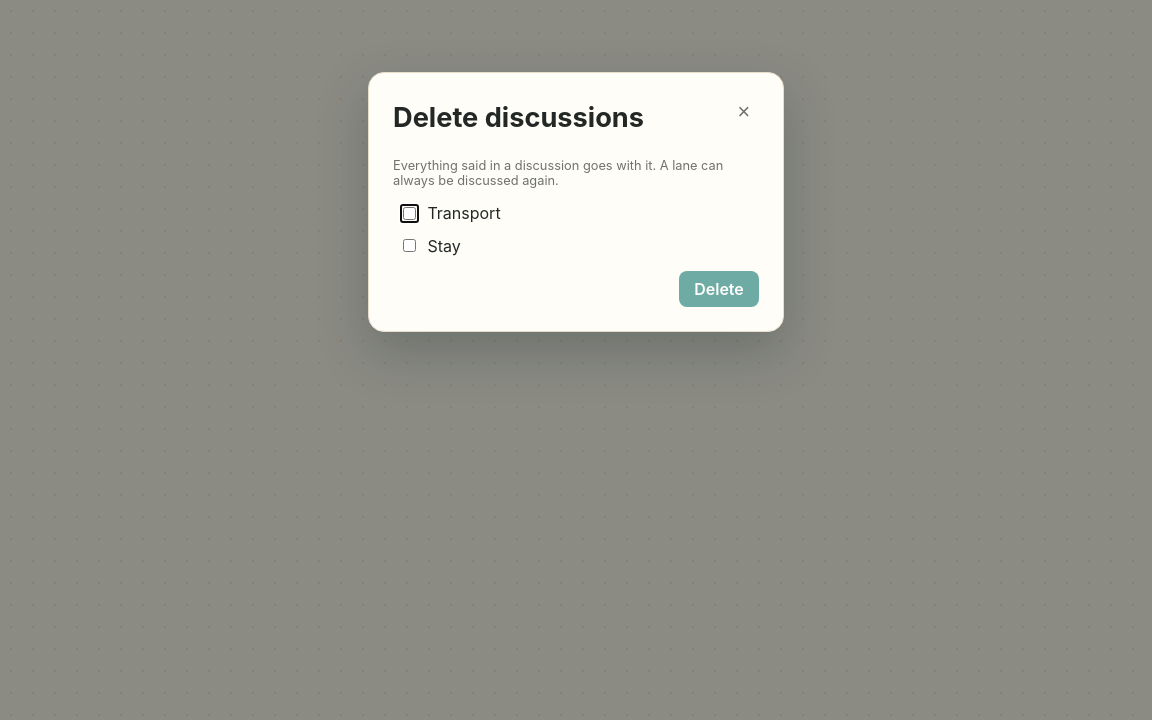
Test case: deleting a board's discussions › will not delete until something is ticked
Expected: the button "Delete" is disabled, [679, 271, 759, 307]
What coordinates should you click on to do the following:
click the checkbox labelled "Transport"
I would click on:
 (410, 213)
Its box is [403, 207, 416, 220].
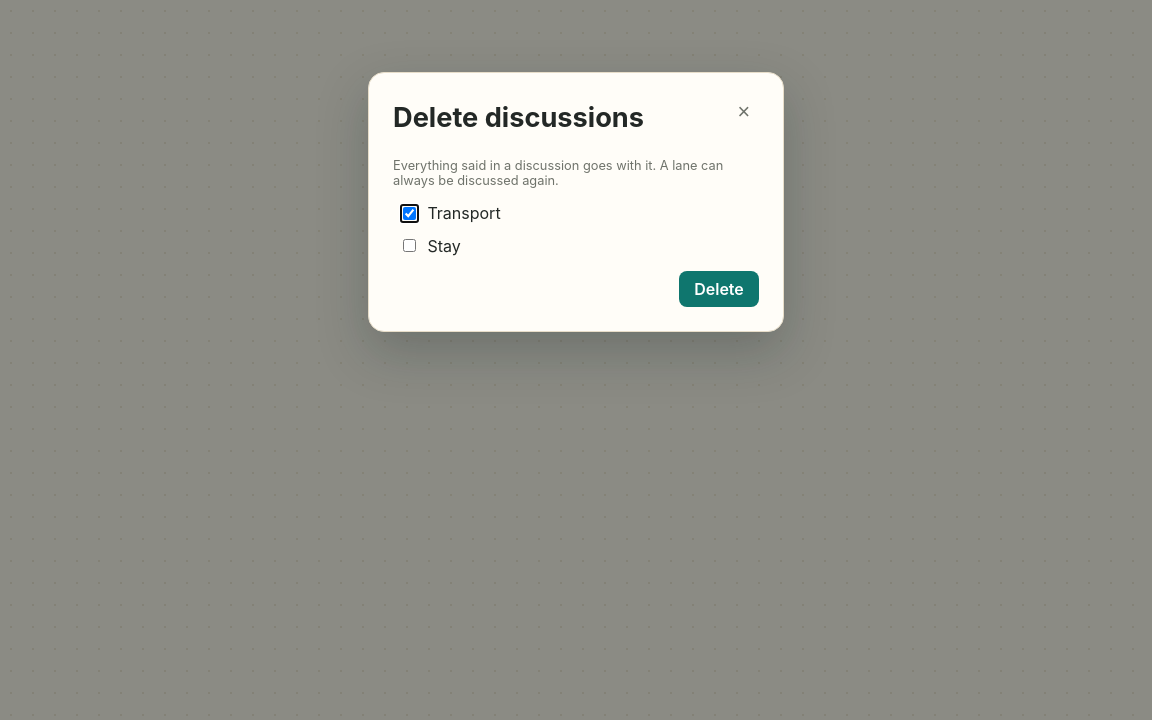
Result: the button "Delete" is enabled at [679, 271, 759, 307]
